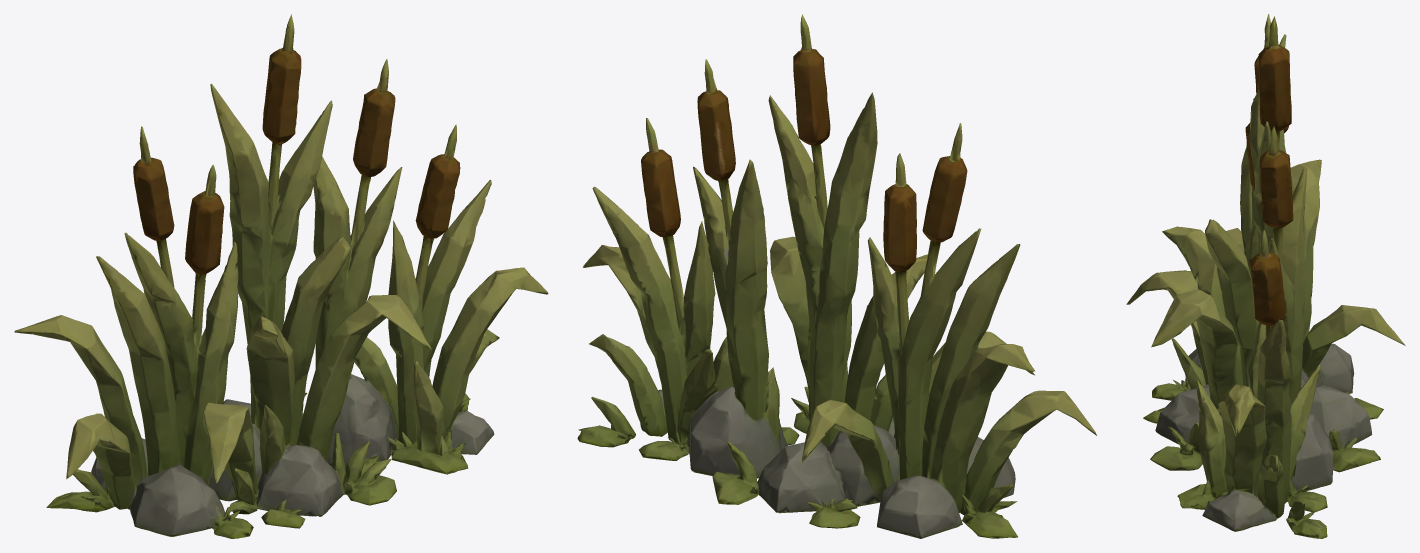
The model's file is fen_reeds.glb.
3 views of the same model, side by side, from view 1: azimuth 30°, elevation 25°; view 2: azimuth 150°, elevation 25°; view 3: azimuth 270°, elevation 25° (orthographic). The views are drawn at different scales.
Parts seen in each view (by area): view 1: tripo_node_d73a305f-ba7f-431d-9882-df738eb4a446; view 2: tripo_node_d73a305f-ba7f-431d-9882-df738eb4a446; view 3: tripo_node_d73a305f-ba7f-431d-9882-df738eb4a446.
Part boxes in pixels (<box>): tripo_node_d73a305f-ba7f-431d-9882-df738eb4a446: <box>14,14,548,538</box>; tripo_node_d73a305f-ba7f-431d-9882-df738eb4a446: <box>577,14,1096,538</box>; tripo_node_d73a305f-ba7f-431d-9882-df738eb4a446: <box>1126,14,1405,538</box>.
Size of the model in its own units: 0.9823 by 0.8538 by 0.501.
1 material, 1 textured.
